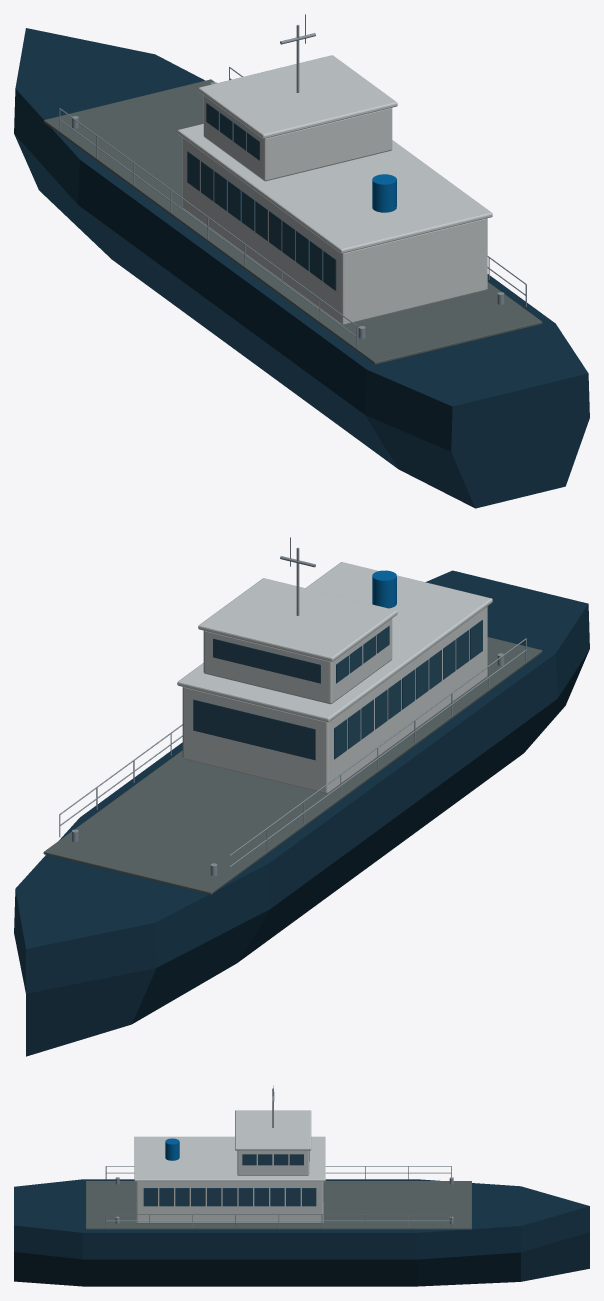
File: ship-generic.glb
3 views of the same model, one above another, from view 1: azimuth 30°, elevation 25°; view 2: azimuth 150°, elevation 25°; view 3: azimuth 270°, elevation 25° (orthographic). The views are drawn at different scales.
Visible parts, largest first — view 1: ship-generic_body, ship-generic_glass, ship-generic_metal; view 2: ship-generic_body, ship-generic_glass, ship-generic_metal; view 3: ship-generic_body, ship-generic_glass, ship-generic_metal.
Part boxes in pixels (x1=…): ship-generic_body: x1=14, y1=28, x2=589, y2=508; ship-generic_glass: x1=187, y1=103, x2=336, y2=290; ship-generic_metal: x1=59, y1=14, x2=526, y2=348; ship-generic_body: x1=14, y1=562, x2=589, y2=1056; ship-generic_glass: x1=193, y1=620, x2=482, y2=760; ship-generic_metal: x1=59, y1=537, x2=526, y2=878; ship-generic_body: x1=14, y1=1110, x2=589, y2=1286; ship-generic_glass: x1=143, y1=1151, x2=323, y2=1206; ship-generic_metal: x1=105, y1=1085, x2=453, y2=1227.
Size of the model in its own units: 9 by 14.2 by 40.
